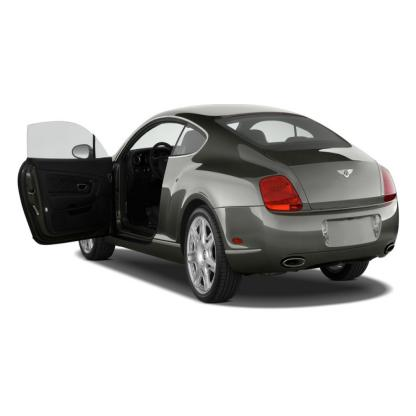Vehicle: (18, 110, 399, 305)
